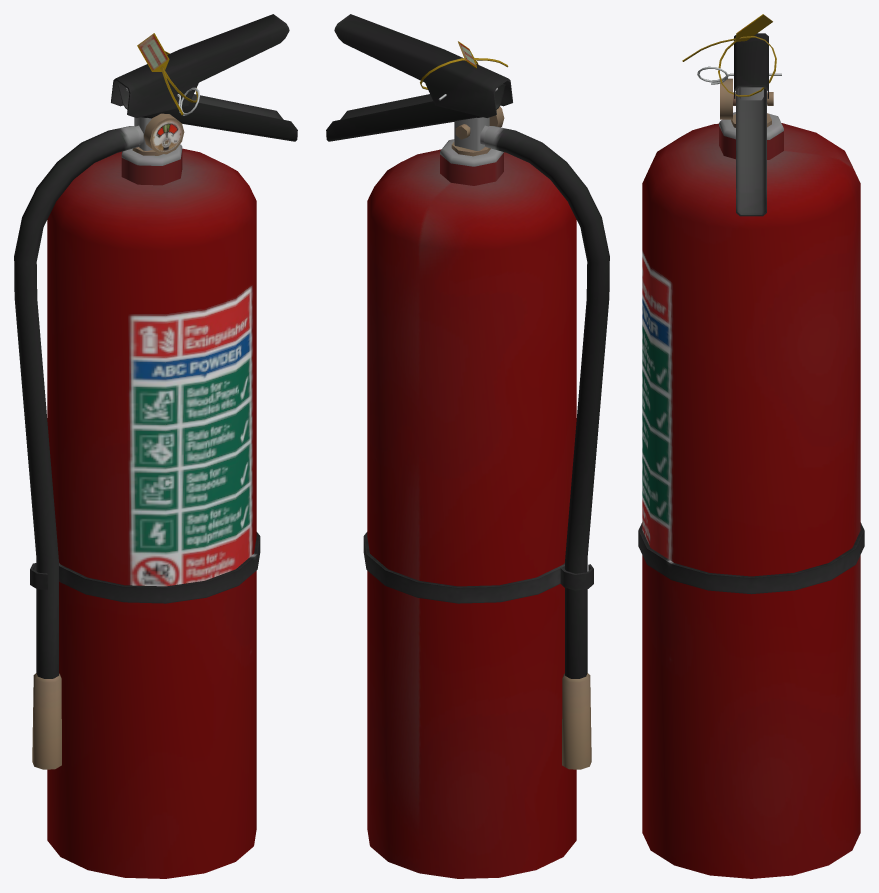
File: FBX_Extinguisher.fbx
The picture shows the model from 3 angles, left to right: view 1: azimuth 30°, elevation 25°; view 2: azimuth 150°, elevation 25°; view 3: azimuth 270°, elevation 25°; orthographic projection. The views are drawn at different scales.
Visible parts, largest first — view 1: SM_Extinguisher; view 2: SM_Extinguisher; view 3: SM_Extinguisher.
Part boxes in pixels (<box>): SM_Extinguisher: <box>14,14,297,878</box>; SM_Extinguisher: <box>326,14,609,878</box>; SM_Extinguisher: <box>638,14,864,878</box>.
Size of the model in its own units: 0.2556 by 0.7072 by 0.1761.
